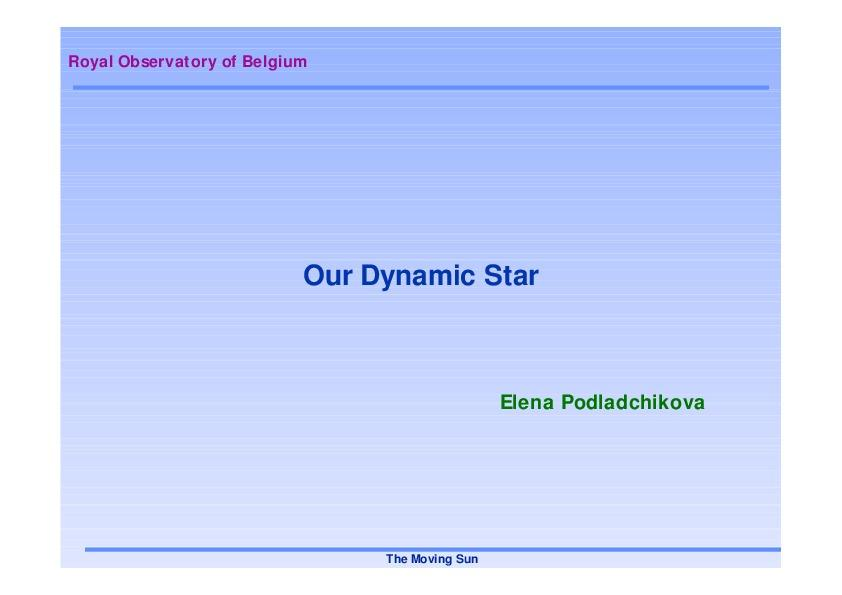subtitle: (290, 250, 571, 308)
title: (62, 44, 318, 81)
